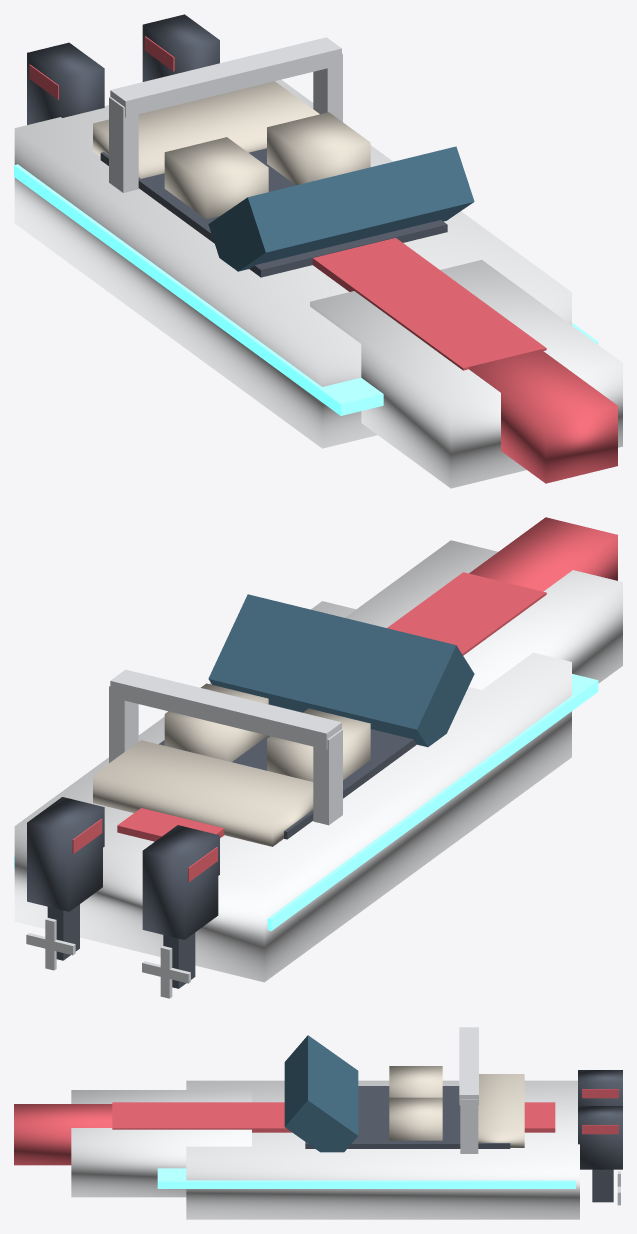
File: speedboat.glb
The picture shows the model from 3 angles, top to bottom: view 1: azimuth 30°, elevation 25°; view 2: azimuth 150°, elevation 25°; view 3: azimuth 270°, elevation 25°; orthographic projection. The views are drawn at different scales.
Visible parts, largest first — view 1: HullMain, HullBow, Windshield, RacingStripe, HullNose, RearLounge, RadarRoll, WaterNeon, SeatL, SeatR, MotorHead_1, CockpitWell (+3 smaller); view 2: HullMain, Windshield, HullBow, RearLounge, RacingStripe, MotorHead_1, MotorHead_2, RadarRoll, HullNose, WaterNeon, SeatR, SeatL (+5 smaller); view 3: HullMain, HullBow, Windshield, RacingStripe, HullNose, WaterNeon, CockpitWell, RearLounge, MotorHead_2, SeatR, SeatL, RadarRoll (+5 smaller).
Part boxes in pixels (box(x1,y1,x2,y2)): HullMain: box(14, 79, 571, 448); HullBow: box(310, 260, 622, 488); Windshield: box(208, 146, 474, 271); RacingStripe: box(312, 238, 546, 370); HullNose: box(469, 349, 617, 483); RearLounge: box(93, 81, 319, 178); RadarRoll: box(110, 37, 341, 117); WaterNeon: box(14, 164, 598, 415); SeatL: box(164, 137, 268, 219); SeatR: box(267, 112, 370, 185); MotorHead_1: box(27, 42, 104, 124); CockpitWell: box(100, 148, 447, 277); HullMain: box(14, 601, 571, 982); Windshield: box(208, 594, 474, 747); HullBow: box(345, 540, 622, 689); RearLounge: box(93, 740, 313, 846); RacingStripe: box(117, 572, 546, 841); MotorHead_1: box(142, 825, 219, 939); MotorHead_2: box(27, 797, 104, 911); RadarRoll: box(110, 669, 341, 749); HullNose: box(469, 517, 617, 591); WaterNeon: box(14, 674, 598, 930); SeatR: box(164, 683, 268, 761); SeatL: box(267, 708, 370, 781); HullMain: box(186, 1080, 579, 1219); HullBow: box(71, 1090, 251, 1197); Windshield: box(284, 1035, 358, 1152); RacingStripe: box(112, 1102, 555, 1132); HullNose: box(14, 1104, 112, 1165); WaterNeon: box(157, 1168, 575, 1188); CockpitWell: box(305, 1086, 510, 1148); RearLounge: box(478, 1074, 524, 1147); MotorHead_2: box(578, 1106, 622, 1169); SeatR: box(389, 1097, 442, 1140); SeatL: box(389, 1066, 442, 1097); RadarRoll: box(459, 1027, 478, 1105).
Size of the model in its own units: 2.32 by 1.68 by 7.42.
